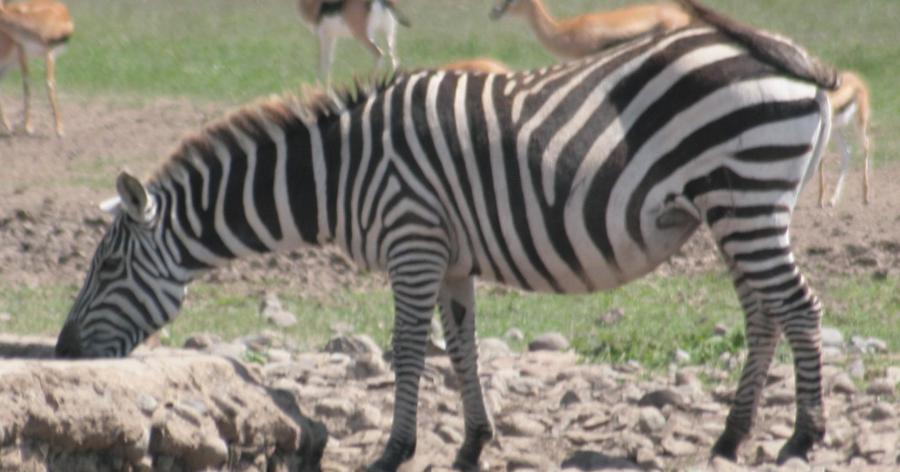zebra_plains: (282, 49, 846, 293)
